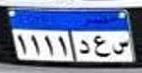1: (30, 34, 42, 56), (17, 34, 28, 56), (45, 34, 54, 57), (60, 34, 67, 57)
ain: (93, 33, 110, 61)
daal: (80, 38, 92, 56)
seen: (112, 38, 129, 56)
